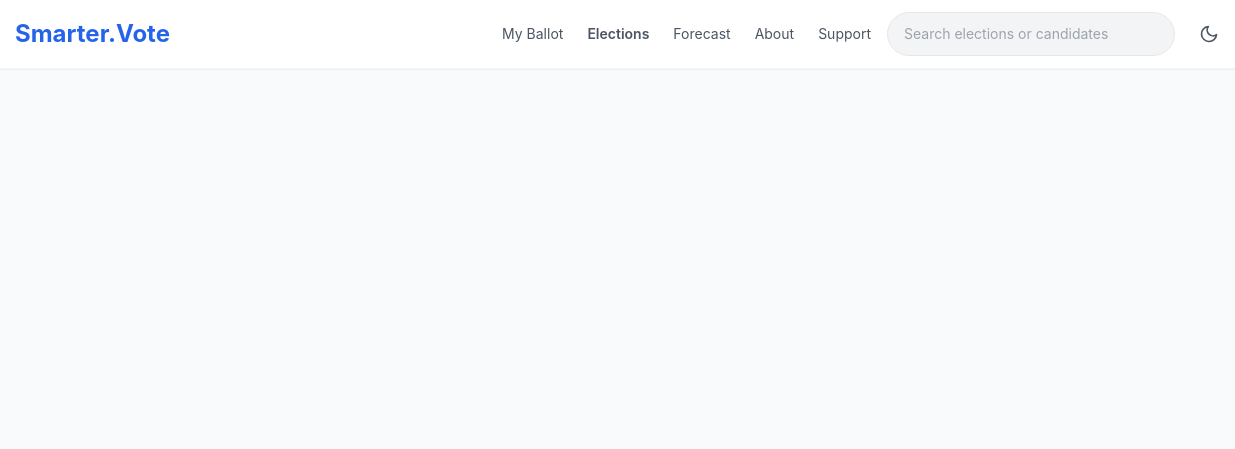
Test: SiteHeader result options › ranks a state's Senate race ahead of its House seats
Type "Texas" into the dropdown with id "site-search" at (1031, 34), box [887,12,1175,56]
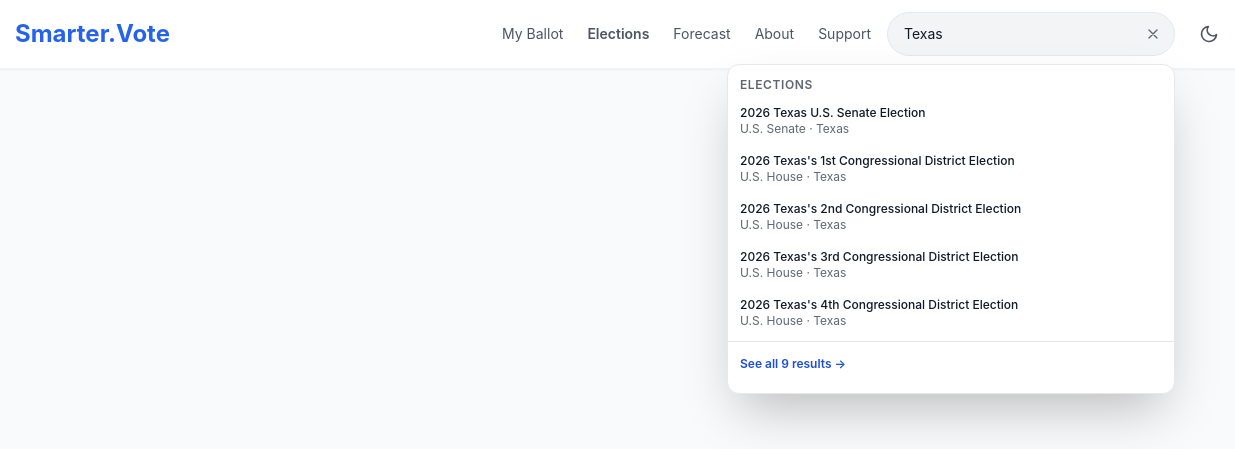
Check: the option with id "site-search-option-0" shows "Texas U.S. Senate", box [728,97,1174,145]
